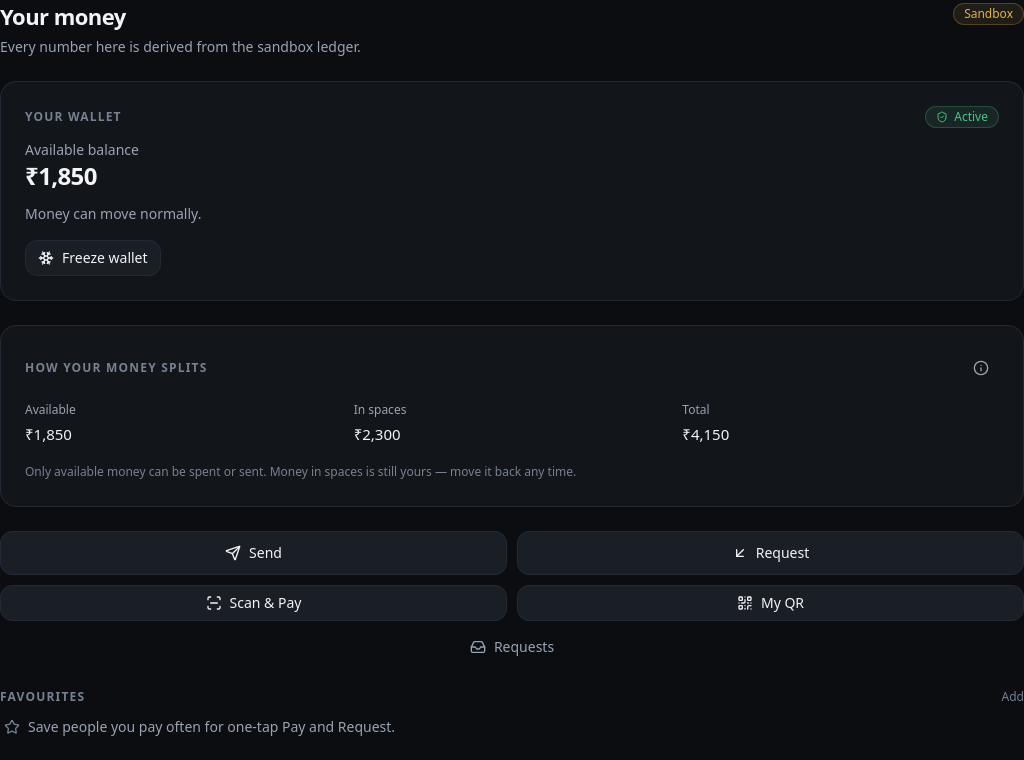
Test: Phase 5 screens › freezing from Money: status in words, double-click safe, announced, and Home shows a banner
Expected: the text "Active" is shown, x1=954 y1=109 x2=988 y2=125
Step 1. Click the button "Freeze wallet" → {"x": 93, "y": 258}, box x1=25 y1=240 x2=161 y2=276
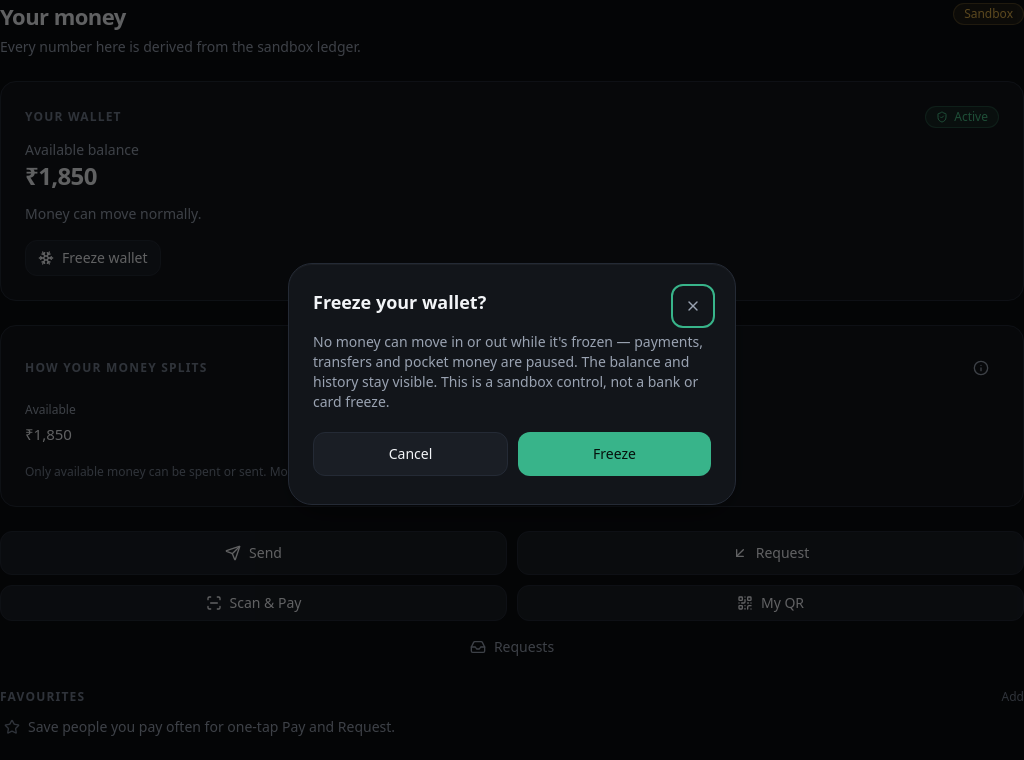
Step 2. Double-click the button "Freeze" → {"x": 614, "y": 454}, box x1=518 y1=432 x2=711 y2=476
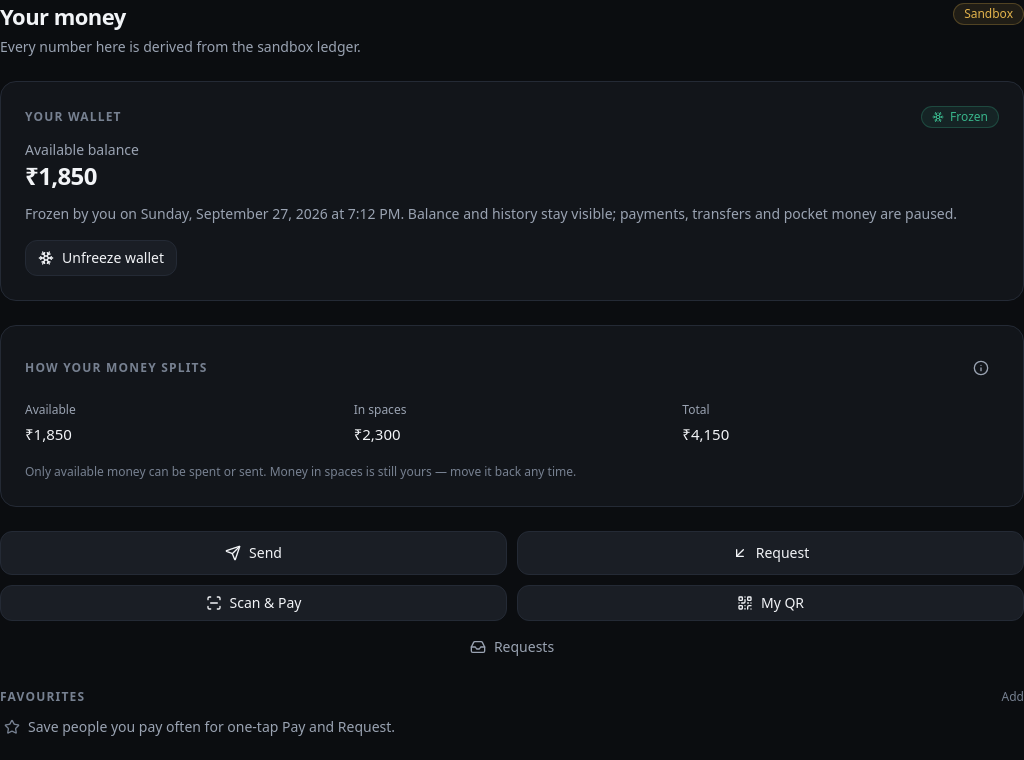
Result: the dialog is gone
Result: the text "Frozen" is shown at x1=950 y1=109 x2=988 y2=125
Result: the button "Unfreeze wallet" is shown at x1=25 y1=240 x2=177 y2=276
